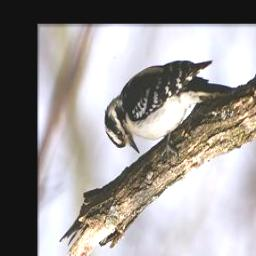Woodpecker: (96, 52, 236, 158)
